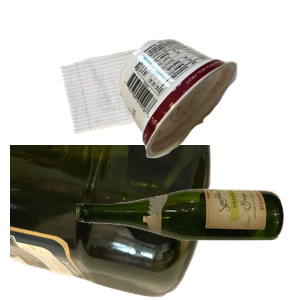glass: (74, 186, 300, 300)
paper: (56, 40, 229, 166)
plastic: (10, 145, 213, 300)
trash: (116, 36, 300, 187)
